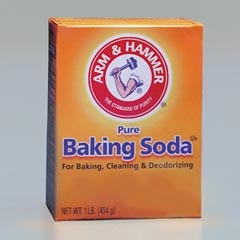grozi_52: (46, 17, 203, 220)
